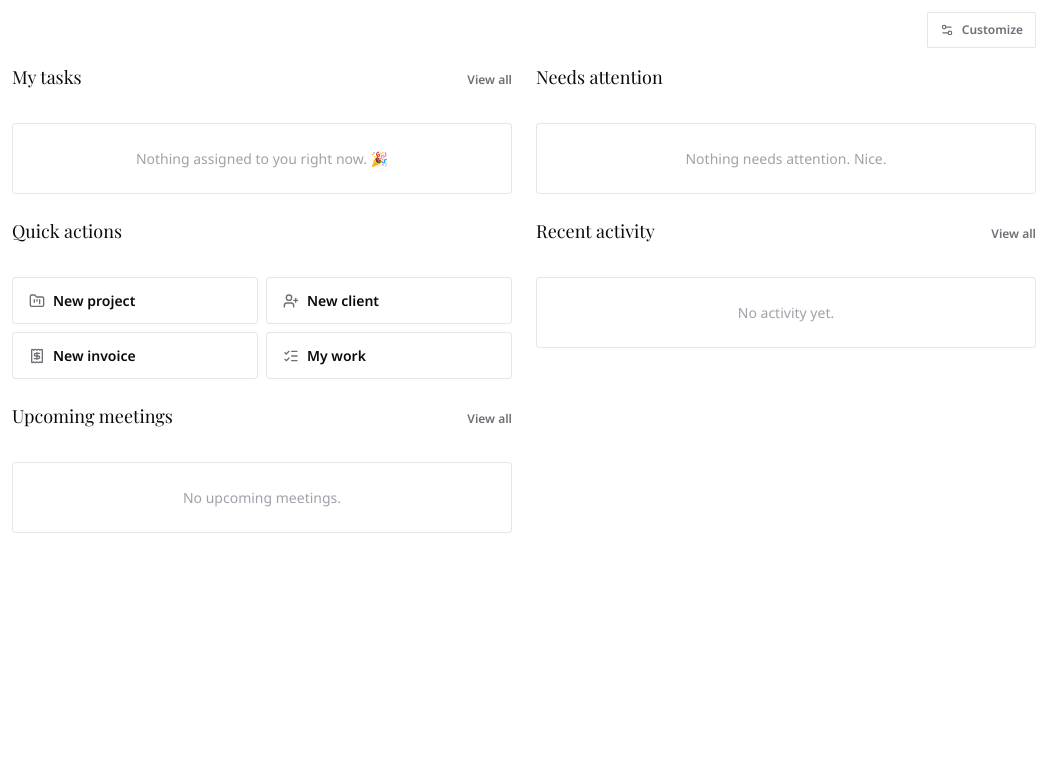
Test: DashboardWidgetGrid › shows an inline error when saving the layout fails
Click the button "Customize" at (981, 30), box [927,12,1036,48]
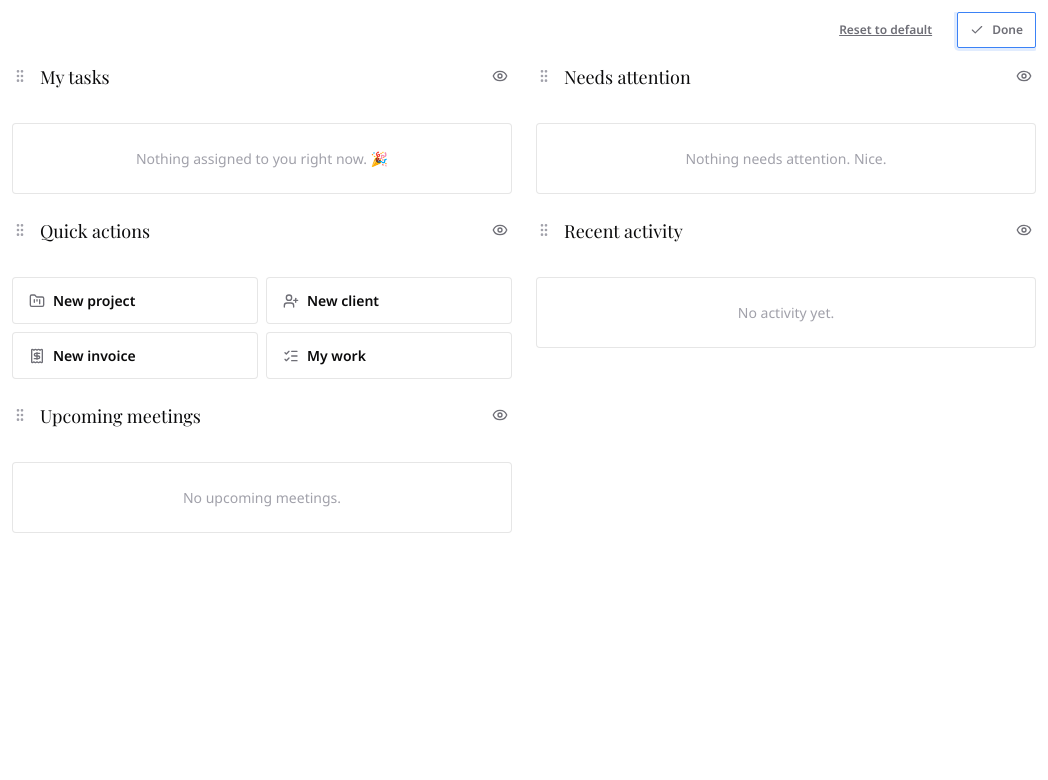
Click the button named "Hide Recent activity" at (1024, 230), box [1012,218,1036,242]
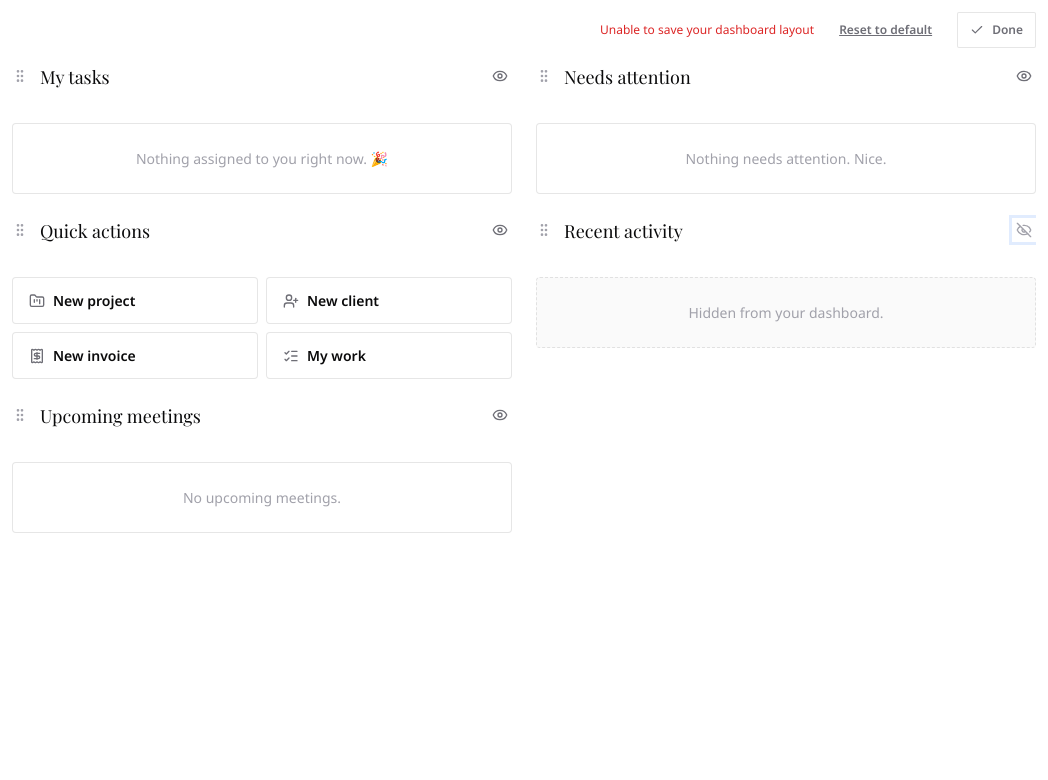
Expected: the text "Unable to save your dashboard layout" is shown, [600,21,814,39]
